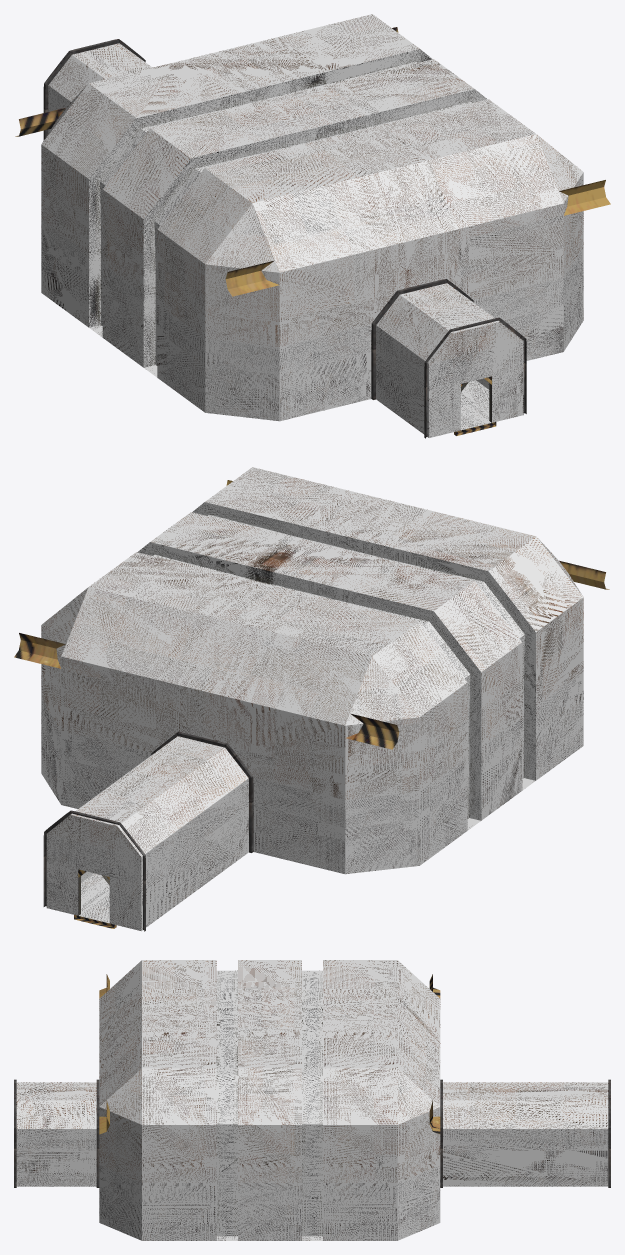
Rendered from BigRoom.fbx.
3 renders of one model, top to bottom at view 1: azimuth 30°, elevation 25°; view 2: azimuth 150°, elevation 25°; view 3: azimuth 270°, elevation 25°, orthographic. The views are drawn at different scales.
Visible parts, largest first — view 1: Bounds, Plane, Circle.002, Plane.002, Plane.004, Plane.005, Circle.001; view 2: Bounds, Plane, Circle.001, Plane.005, Plane.001, Circle.002; view 3: Bounds, Plane, Plane.004.
Boxes of the visible parts, bbox=[...] form: Bounds: bbox=[41, 14, 583, 437]; Plane: bbox=[41, 14, 583, 436]; Circle.002: bbox=[225, 180, 610, 296]; Plane.002: bbox=[424, 317, 526, 438]; Plane.004: bbox=[371, 279, 473, 399]; Plane.005: bbox=[43, 39, 145, 139]; Circle.001: bbox=[15, 27, 398, 136]; Bounds: bbox=[41, 467, 583, 930]; Plane: bbox=[41, 468, 583, 930]; Circle.001: bbox=[14, 633, 399, 749]; Plane.005: bbox=[43, 810, 145, 931]; Plane.001: bbox=[151, 732, 253, 852]; Circle.002: bbox=[226, 480, 609, 589]; Bounds: bbox=[16, 960, 608, 1240]; Plane: bbox=[16, 960, 608, 1240]; Plane.004: bbox=[96, 1079, 99, 1187].
Size of the model in its own units: 32 by 16.38 by 56.
Materials: 10 (9 with a texture image).
